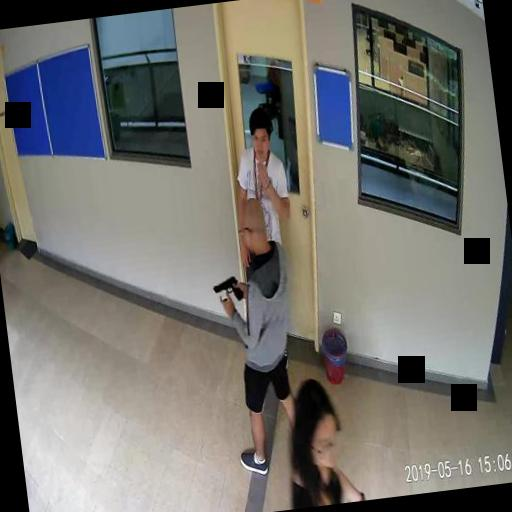Handgun: (210, 274, 244, 304)
